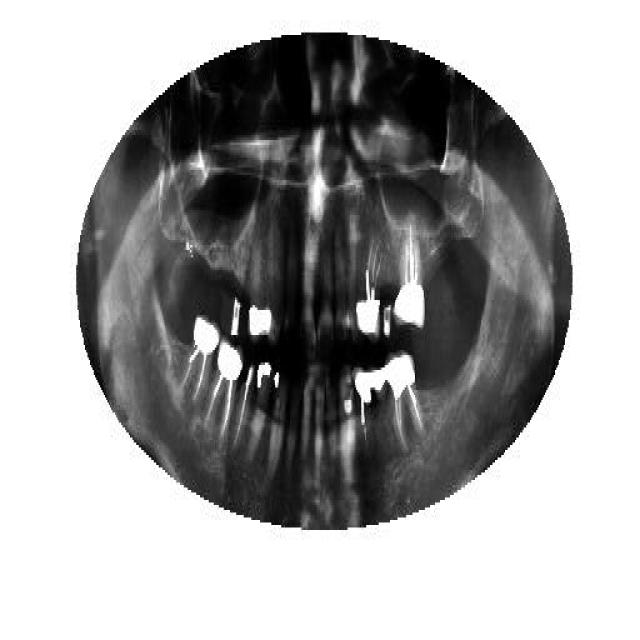Fillings: (248, 360, 274, 465), (248, 230, 266, 345), (333, 235, 348, 345), (347, 245, 358, 345), (370, 360, 386, 415)
Implant: (393, 218, 428, 330), (386, 350, 425, 450), (204, 338, 242, 440), (181, 312, 219, 410), (356, 242, 385, 342), (233, 353, 255, 455), (355, 365, 373, 463)
